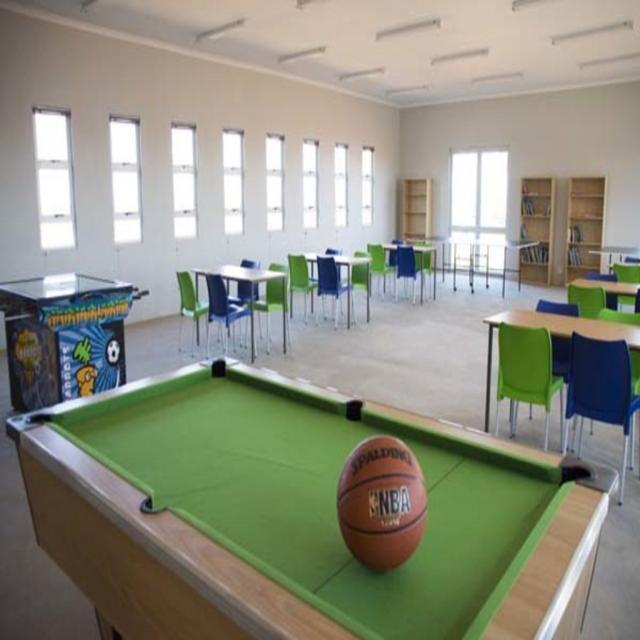Ball: (337, 435, 427, 573)
Billiard table: (4, 353, 619, 640)
